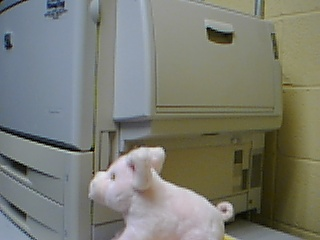piggy: (87, 145, 237, 240)
